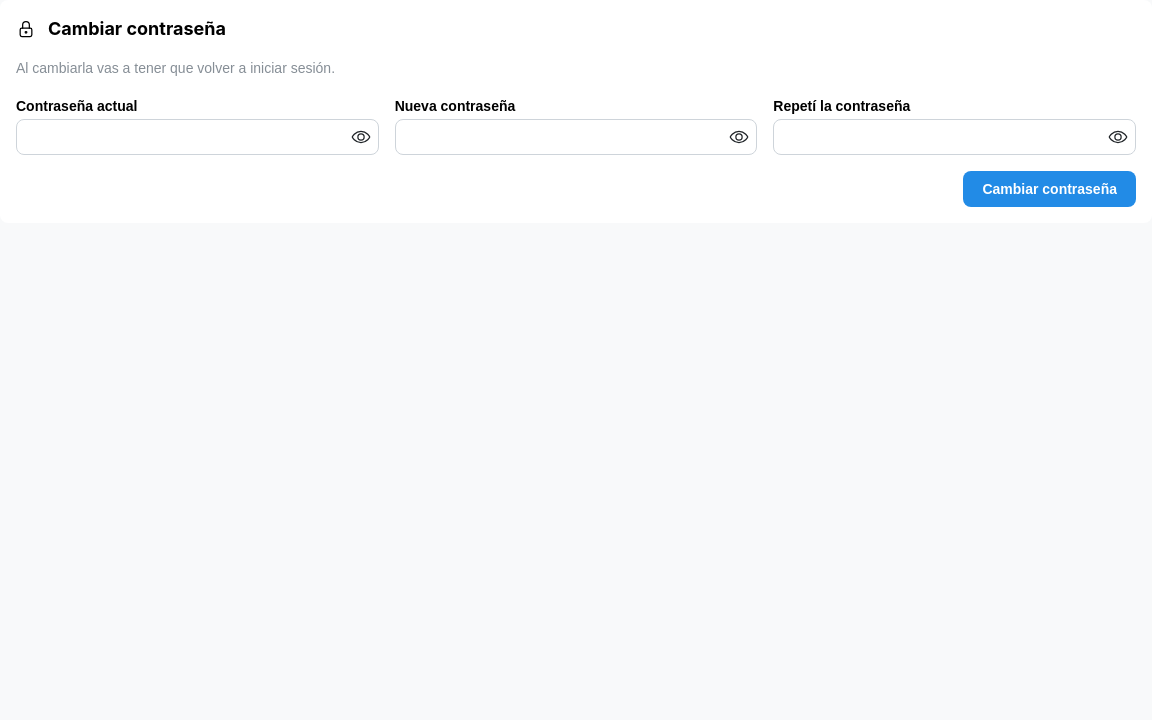
Test: CambiarPasswordCard › contraseña actual incorrecta (400 con code "password_incorrecta" (SHG-BE-083)): mensaje específico
Type "claveMala1" into the password field labelled "Contraseña actual" at (197,137), box [17,120,378,154]
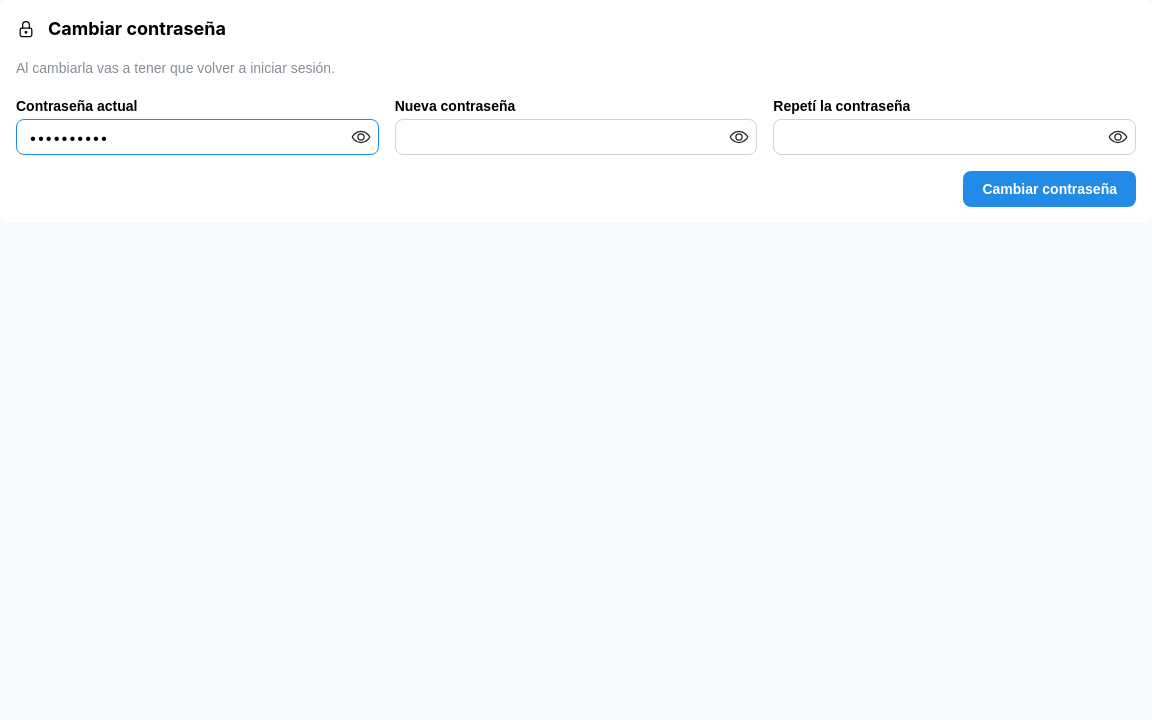
Type "claveNueva2" into the password field labelled "Nueva contraseña" at (576,137), box [396,120,756,154]
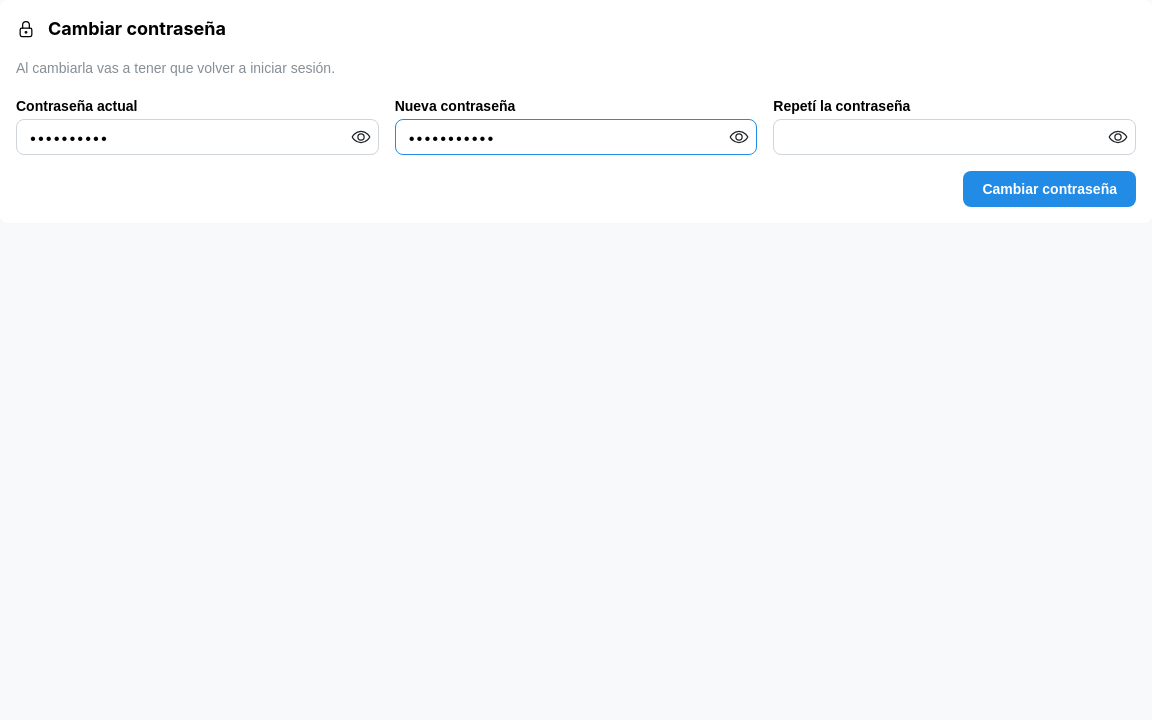
Type "claveNueva2" into the password field labelled "Repetí la contraseña" at (955,137), box [774,120,1135,154]
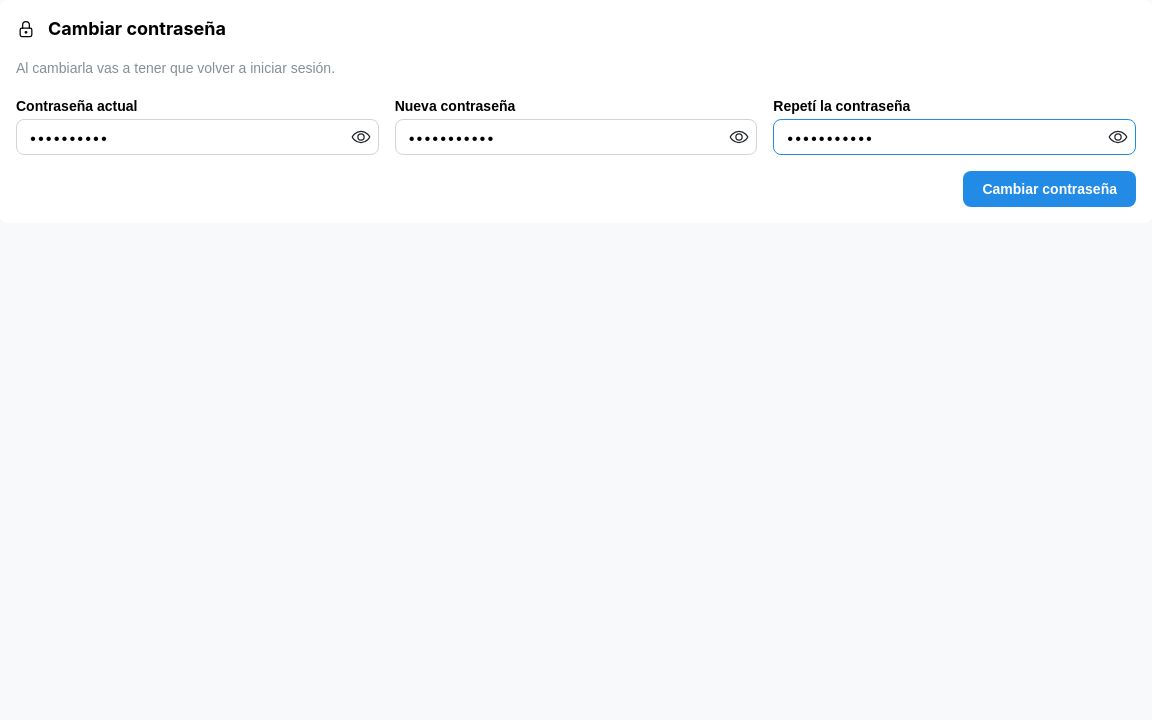
Click the button "Cambiar contraseña" at (1050,189), box [963,171,1136,207]
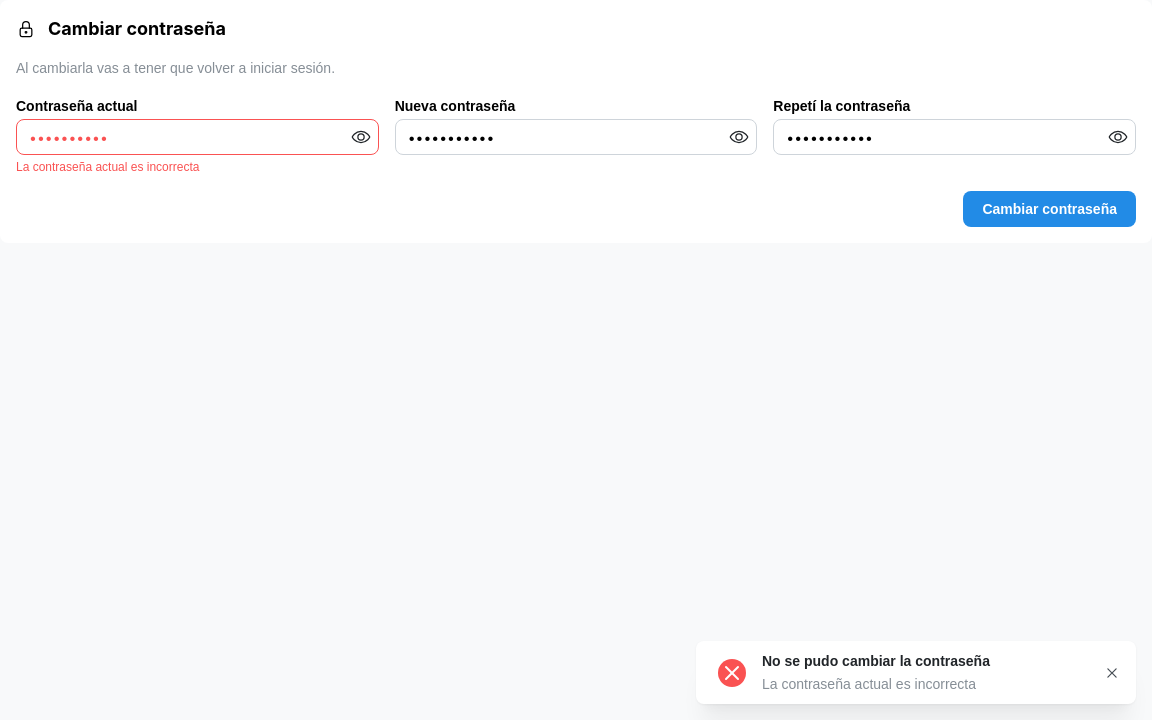
Now the text "La contraseña actual es incorrecta" below "Nueva contraseña" is shown, box [16,160,200,174]
